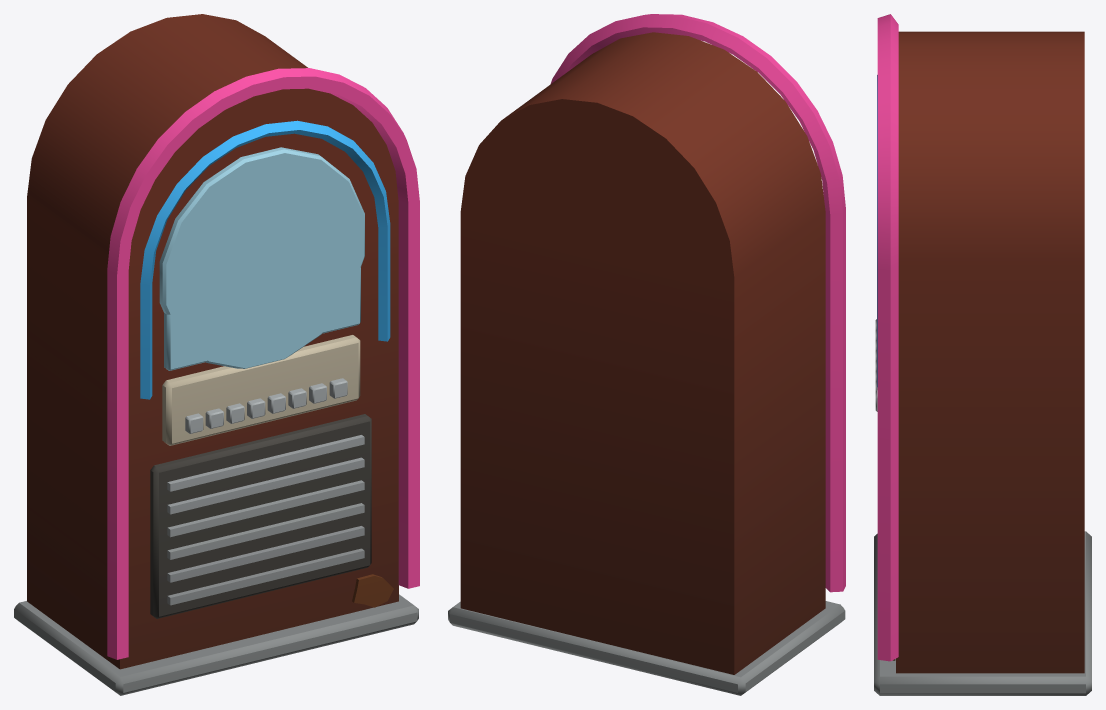
File: 63_jukebox.fbx
3 renders of one model, left to right at view 1: azimuth 30°, elevation 25°; view 2: azimuth 150°, elevation 25°; view 3: azimuth 270°, elevation 25°, orthographic. The views are drawn at different scales.
Visible parts, largest first — view 1: Caisson, Vitre, Neon; view 2: Caisson, Neon; view 3: Caisson, Neon.
Part boxes in pixels (x1=…): Caisson: x1=14, y1=14, x2=418, y2=695; Vitre: x1=159, y1=147, x2=364, y2=370; Neon: x1=107, y1=68, x2=419, y2=659; Caisson: x1=448, y1=32, x2=845, y2=695; Neon: x1=550, y1=14, x2=845, y2=592; Caisson: x1=874, y1=31, x2=1091, y2=695; Neon: x1=877, y1=14, x2=898, y2=661.
Bounding box in the file's own units: 0.7 × 1.26 × 0.42.
Materials: 1 (1 with a texture image).
